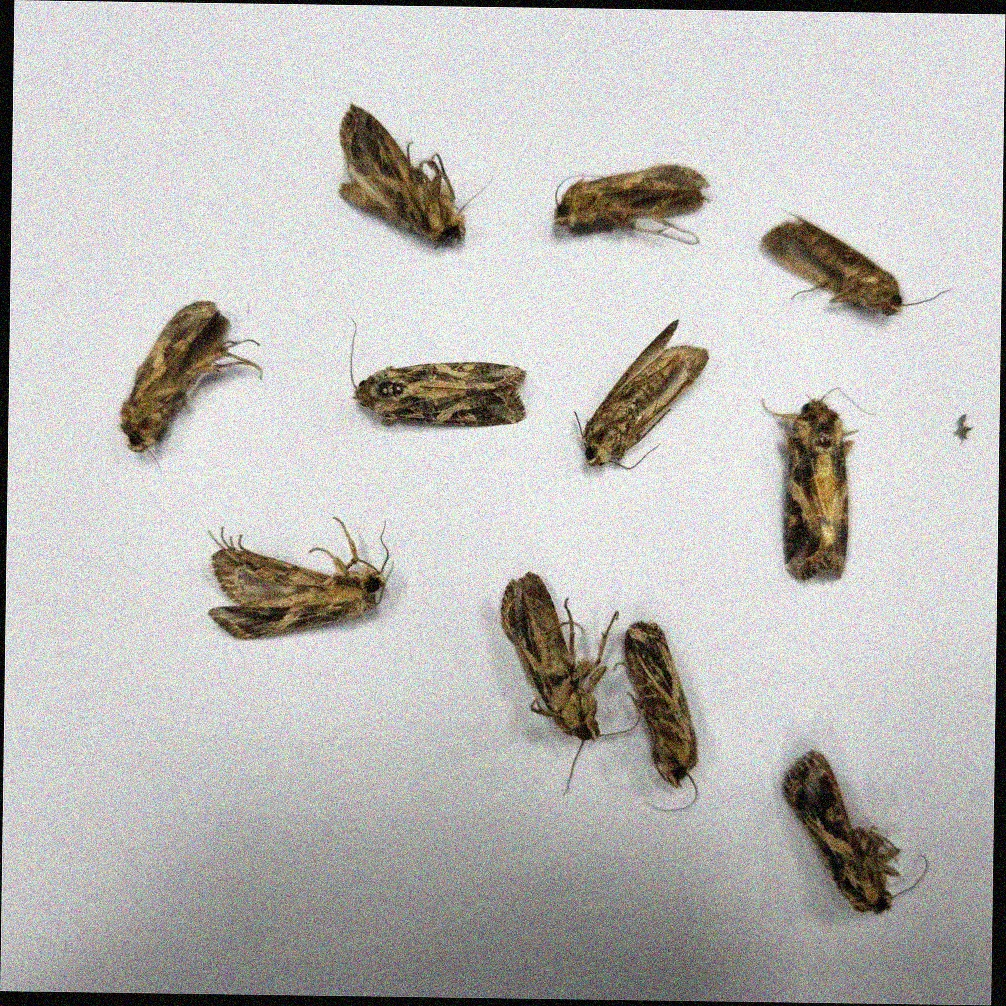Spodoptera litura: (499, 571, 642, 796), (118, 299, 263, 478), (780, 749, 931, 914), (206, 514, 394, 640), (337, 103, 493, 251), (759, 385, 874, 581), (758, 208, 955, 315), (574, 318, 709, 470), (348, 317, 529, 427), (612, 618, 701, 812), (553, 162, 711, 246)
